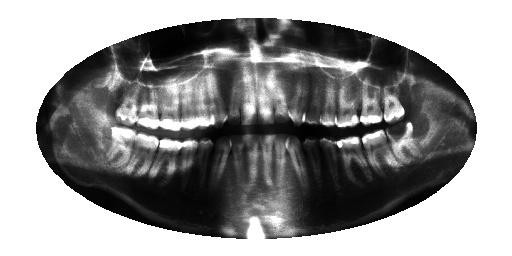i10decay: (228, 130, 246, 199)
i11decay: (211, 134, 232, 200)
i12healthy: (195, 137, 213, 193)
i13healthy: (175, 134, 199, 197)
i14healthy: (145, 132, 184, 187)
i15healthy: (125, 124, 160, 182)
i16healthy: (104, 124, 139, 172)
i1decay: (381, 115, 425, 170)
i2healthy: (359, 125, 402, 177)
i3healthy: (334, 131, 374, 185)
i4healthy: (319, 131, 343, 188)
i5decay: (303, 134, 325, 191)
i6healthy: (284, 132, 311, 192)
i7healthy: (269, 130, 287, 192)
i8healthy: (257, 128, 277, 197)
i9healthy: (239, 128, 261, 199)
u10decay: (224, 65, 244, 129)
u11decay: (209, 71, 230, 130)
u12healthy: (193, 72, 216, 132)
u13healthy: (177, 72, 201, 133)
u14healthy: (156, 76, 184, 133)
u15healthy: (135, 81, 160, 134)
u16healthy: (109, 77, 141, 128)
u1healthy: (377, 80, 408, 128)
u2healthy: (356, 74, 387, 128)
u3healthy: (332, 77, 362, 131)
u4healthy: (315, 74, 339, 131)
u5healthy: (299, 74, 325, 127)
u6decay: (284, 64, 311, 127)
u7decay: (271, 60, 292, 125)
u8decay: (255, 65, 276, 128)
u9decay: (237, 67, 260, 128)
